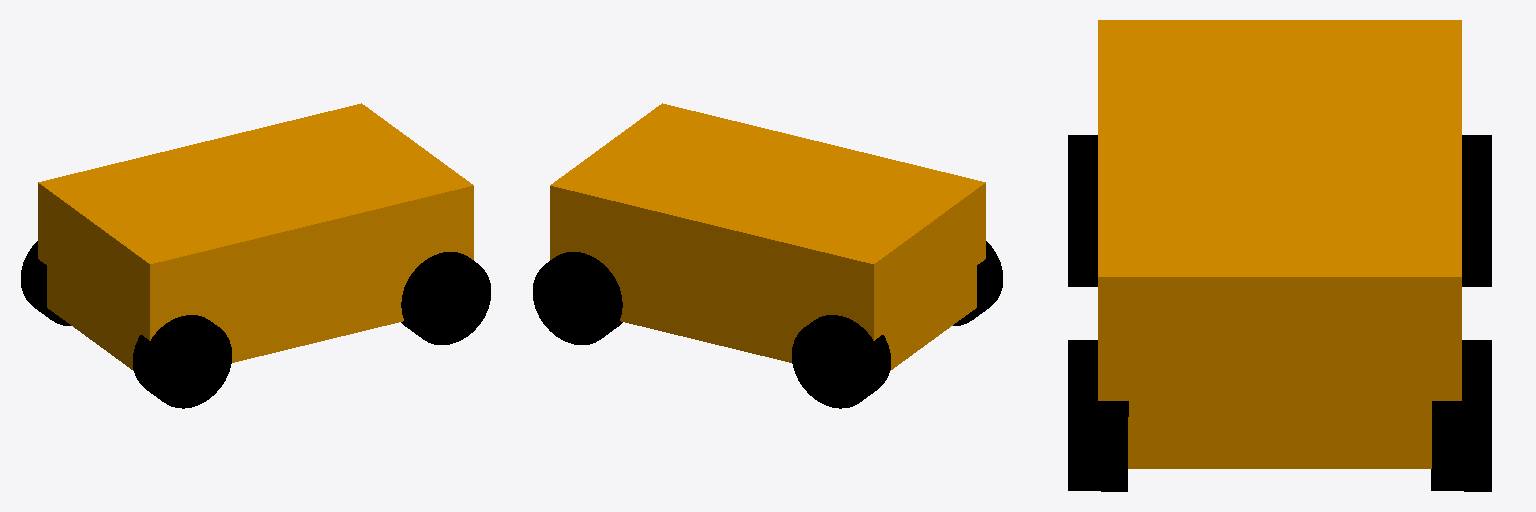
The robot description file, URDF, robot "my_car":
<!--需求：创建一个四轮机器人模型
    参数：长0.2m，宽0.12m，高0.07m，轮胎半径0.025，宽度0.02，离地间距0.15m。
    步骤：
    1.设置base_footprint
    2.设置base_link
    3.使用joint将二者相联
    4.添加一个车轮link
    5.将车轮和base_link关联
    6.其他车轮实现
-->

<robot name="my_car">
    <!-- 抽取颜色 -->
    <material name="yellow">
        <color rgba="0.9 0.6 0.0 0.5"/>       
    </material>
    <material name="black">
        <color rgba="0.0 0.0 0.0 0.5"/>       
    </material>
    <!-- 1.设置base_footprint -->
    <link name="base_footprint">
        <visual>
            <geometry>
                <sphere radius="0.001"/>
            </geometry>
        </visual>        
    </link>
    <!-- 2.设置base_link -->
    <link name="base_link">
        <visual>
            <geometry>
                <box size="0.2 0.12 0.07"/>
            </geometry>
            <material name="yellow"/>
        </visual>
    </link>
    <!-- 3.使用joint将二者相联 -->
    <joint name="base_link2base_footprint" type="fixed">
        <parent link="base_footprint"/>
        <child link="base_link"/>

        <!-- z上的偏移量=车体高度/2+离地间距 -->
        <origin xyz="0.0 0.0 0.05"/>
    </joint>
    <!-- 4.添加一个车轮link -->
    <link name="left_front_wheel">
        <visual>
            <geometry>
                <cylinder radius="0.025" length="0.02"/>
            </geometry>
            <material name="black"/>
            <!-- 车轮起立是设置roll -->
            <origin rpy="1.57 0.0 0.0"/>
        </visual>
    </link>
    <!-- 5.将车轮和base_link关联 -->
    <joint name="left_front_wheel2base_link" type="continuous">
        <parent link="base_link"/>
        <child link="left_front_wheel"/>
        <!-- 车轮平移 -->
        <!-- z=车体高度/2+离地间距-车轮半径 -->
        <origin xyz="0.08 0.06 -0.025"/>
        <!-- 车轮旋转 -->
        <!-- 使用joint_state_publisher_gui测试旋转是否正常 -->
        <axis xyz="0 1 0"/>
    </joint>
    <!-- 6.其他车轮实现     -->
    <link name="right_front_wheel">
        <visual>
            <geometry>
                <cylinder radius="0.025" length="0.02"/>
            </geometry>
            <material name="black"/>
            <origin rpy="1.57 0.0 0.0"/>
        </visual>
    </link>
    <joint name="right_front_wheel2base_link" type="continuous">
        <parent link="base_link"/>
        <child link="right_front_wheel"/>
        <origin xyz="0.08 -0.06 -0.025"/>
        <axis xyz="0 1 0"/>
    </joint>
    
        <link name="left_back_wheel">
        <visual>
            <geometry>
                <cylinder radius="0.025" length="0.02"/>
            </geometry>
            <material name="black"/>
            <origin rpy="1.57 0.0 0.0"/>
        </visual>
    </link>
    <joint name="left_back_wheel2base_link" type="continuous">
        <parent link="base_link"/>
        <child link="left_back_wheel"/>
        <origin xyz="-0.08 0.06 -0.025"/>
        <axis xyz="0 1 0"/>
    </joint>

        <link name="right_back_wheel">
        <visual>
            <geometry>
                <cylinder radius="0.025" length="0.02"/>
            </geometry>
            <material name="black"/>
            <origin rpy="1.57 0.0 0.0"/>
        </visual>
    </link>
    <joint name="right_back_wheel2base_link" type="continuous">
        <parent link="base_link"/>
        <child link="right_back_wheel"/>
        <origin xyz="-0.08 -0.06 -0.025"/>
        <axis xyz="0 1 0"/>
    </joint>
      
</robot>

--- Facts derived from the render (not from the file) ---
The picture shows the robot from 3 angles, left to right: view 1: azimuth 30°, elevation 25°; view 2: azimuth 150°, elevation 25°; view 3: azimuth 270°, elevation 25°; orthographic projection.
Robot: my_car — 6 links, 5 joints (4 continuous, 1 fixed); root link base_footprint; default pose: all joints at 0.
Links seen in each view (by area): view 1: base_link, right_back_wheel, right_front_wheel, left_back_wheel; view 2: base_link, left_back_wheel, left_front_wheel, right_back_wheel; view 3: base_link, left_front_wheel, right_front_wheel, left_back_wheel, right_back_wheel.
Boxes of the visible links, <box> form: base_link: <box>38,103,473,370</box>; right_back_wheel: <box>133,315,231,408</box>; right_front_wheel: <box>401,252,490,344</box>; left_back_wheel: <box>21,241,70,325</box>; base_link: <box>550,103,985,370</box>; left_back_wheel: <box>792,315,890,408</box>; left_front_wheel: <box>533,252,622,344</box>; right_back_wheel: <box>953,241,1002,325</box>; base_link: <box>1098,20,1461,468</box>; left_front_wheel: <box>1431,340,1491,491</box>; right_front_wheel: <box>1068,340,1128,491</box>; left_back_wheel: <box>1462,135,1491,286</box>; right_back_wheel: <box>1068,135,1097,286</box>.
Size in the robot's own frame: 0.21 by 0.14 by 0.086 metres.
Geometry: primitives only (box / cylinder / sphere), no mesh files.
